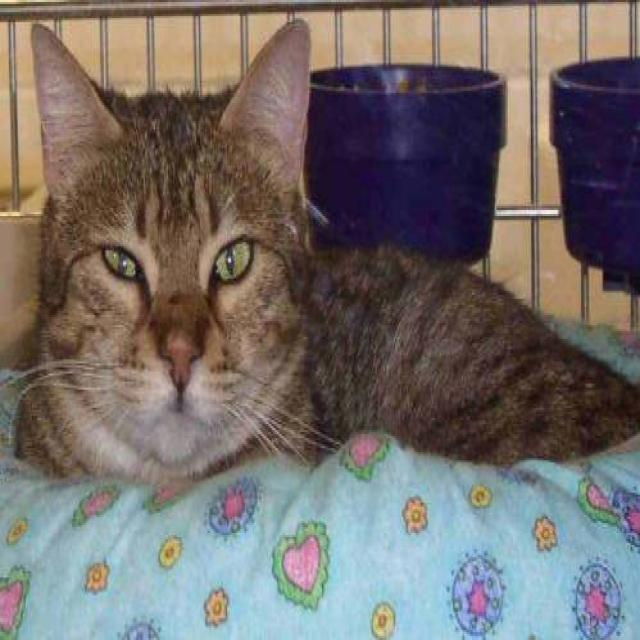cat: (11, 16, 638, 489)
